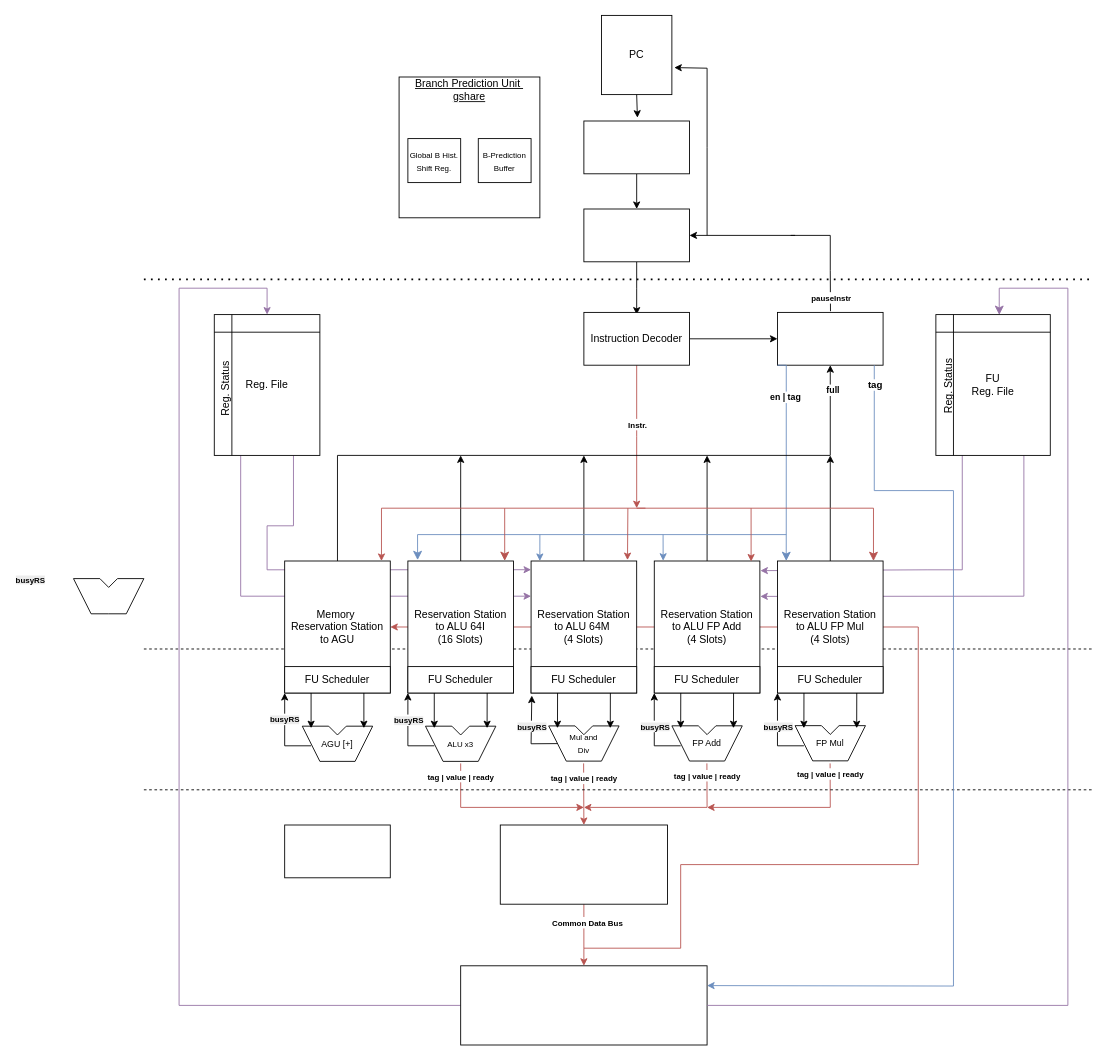
Image size: 1111x1060. Some labels were removed from this diagram. The centre of each missing label's shape, as x and y in pixels:
Common Data Bus Controller: (583,864)
Instr. Mem: (636,147)
Instr. Queue: (636,235)
Load Store Queue: (337,851)
Reorder Buffer: (583,1005)
Reservation Station Scheduler: (830,338)
